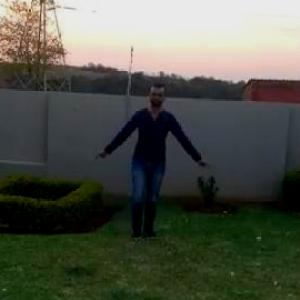land: (89, 72, 207, 244)
